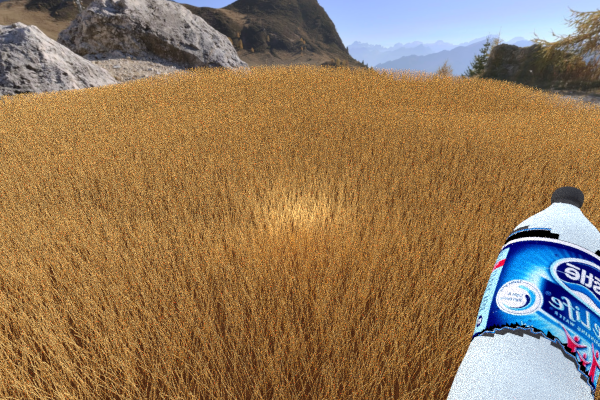bottle: (434, 186, 600, 400)
can: (147, 81, 170, 101)
